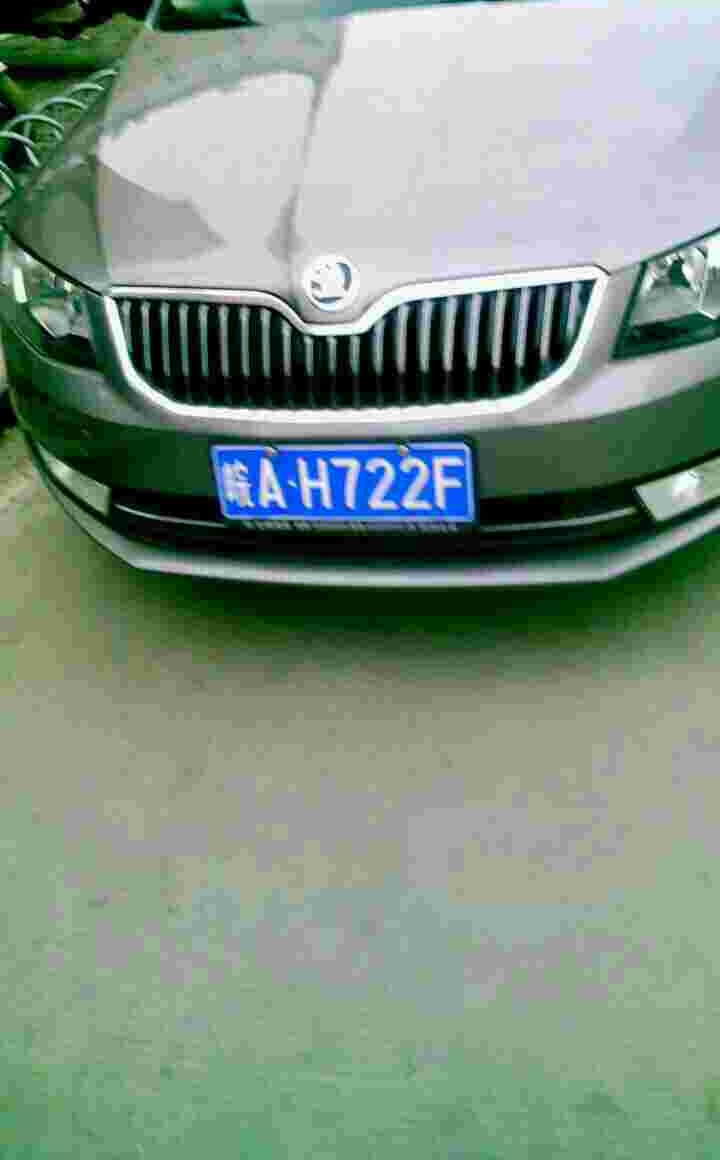plate: (210, 442, 483, 525)
